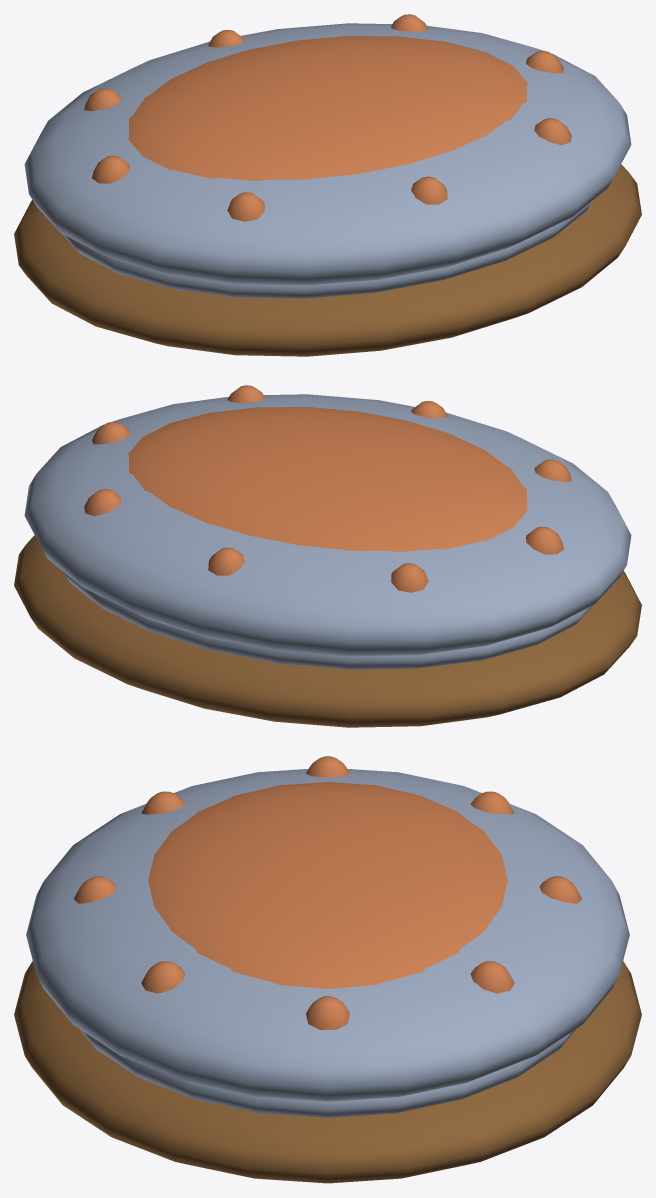
Rendered from pet_bed_cat.glb.
The picture shows the model from 3 angles, top to bottom: view 1: azimuth 30°, elevation 25°; view 2: azimuth 150°, elevation 25°; view 3: azimuth 270°, elevation 25°; orthographic projection. The views are drawn at different scales.
Visible parts, largest first — view 1: Cat bed bolster, Cat bed hollow, Cat bed base, Cat bed cushion, Cat bed tuft.007, Cat bed tuft.006, Cat bed tuft, Cat bed tuft.001, Cat bed tuft.002, Cat bed tuft.005, Cat bed tuft.003; view 2: Cat bed bolster, Cat bed hollow, Cat bed base, Cat bed cushion, Cat bed tuft.005, Cat bed tuft.006, Cat bed tuft.004, Cat bed tuft.003, Cat bed tuft.002, Cat bed tuft.007, Cat bed tuft.001; view 3: Cat bed bolster, Cat bed hollow, Cat bed base, Cat bed cushion, Cat bed tuft.002, Cat bed tuft.001, Cat bed tuft.003, Cat bed tuft, Cat bed tuft.004, Cat bed tuft.005, Cat bed tuft.007, Cat bed tuft.006.
Part boxes in pixels (x1,y1,x2,y2): Cat bed bolster: (24, 23, 631, 285); Cat bed hollow: (128, 36, 527, 181); Cat bed base: (14, 164, 641, 356); Cat bed cushion: (62, 200, 593, 298); Cat bed tuft.007: (227, 192, 264, 221); Cat bed tuft.006: (92, 155, 129, 183); Cat bed tuft: (411, 176, 447, 204); Cat bed tuft.001: (534, 118, 571, 145); Cat bed tuft.002: (526, 51, 563, 73); Cat bed tuft.005: (84, 88, 121, 111); Cat bed tuft.003: (391, 14, 428, 31); Cat bed bolster: (24, 394, 631, 656); Cat bed hollow: (128, 407, 527, 552); Cat bed base: (14, 535, 641, 727); Cat bed cushion: (62, 571, 593, 669); Cat bed tuft.005: (391, 563, 428, 592); Cat bed tuft.006: (526, 526, 563, 554); Cat bed tuft.004: (208, 547, 244, 575); Cat bed tuft.003: (84, 489, 121, 516); Cat bed tuft.002: (92, 422, 129, 444); Cat bed tuft.007: (534, 459, 571, 482); Cat bed tuft.001: (227, 385, 264, 402); Cat bed bolster: (26, 769, 629, 1101); Cat bed hollow: (148, 782, 507, 988); Cat bed base: (14, 961, 641, 1183); Cat bed cushion: (80, 1029, 575, 1117); Cat bed tuft.002: (306, 996, 349, 1029); Cat bed tuft.001: (141, 961, 185, 993); Cat bed tuft.003: (470, 961, 514, 993); Cat bed tuft: (74, 876, 116, 903); Cat bed tuft.004: (539, 876, 581, 903); Cat bed tuft.005: (470, 791, 514, 814); Cat bed tuft.007: (141, 791, 185, 814); Cat bed tuft.006: (306, 756, 349, 777).
Size of the model in its own units: 0.62 by 0.2 by 0.52.
